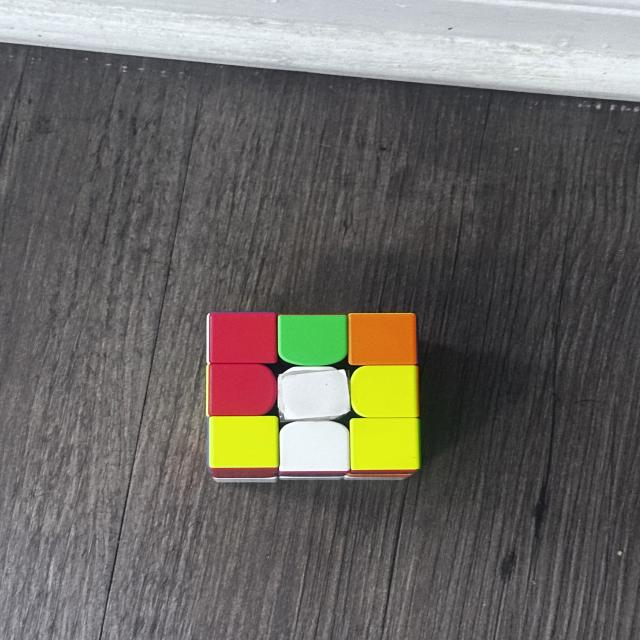sticker: (278, 315, 344, 364), (208, 316, 276, 362), (352, 315, 418, 362), (209, 366, 274, 413), (210, 419, 276, 463), (355, 421, 418, 467), (281, 426, 345, 471), (283, 370, 348, 413), (354, 370, 414, 415)
